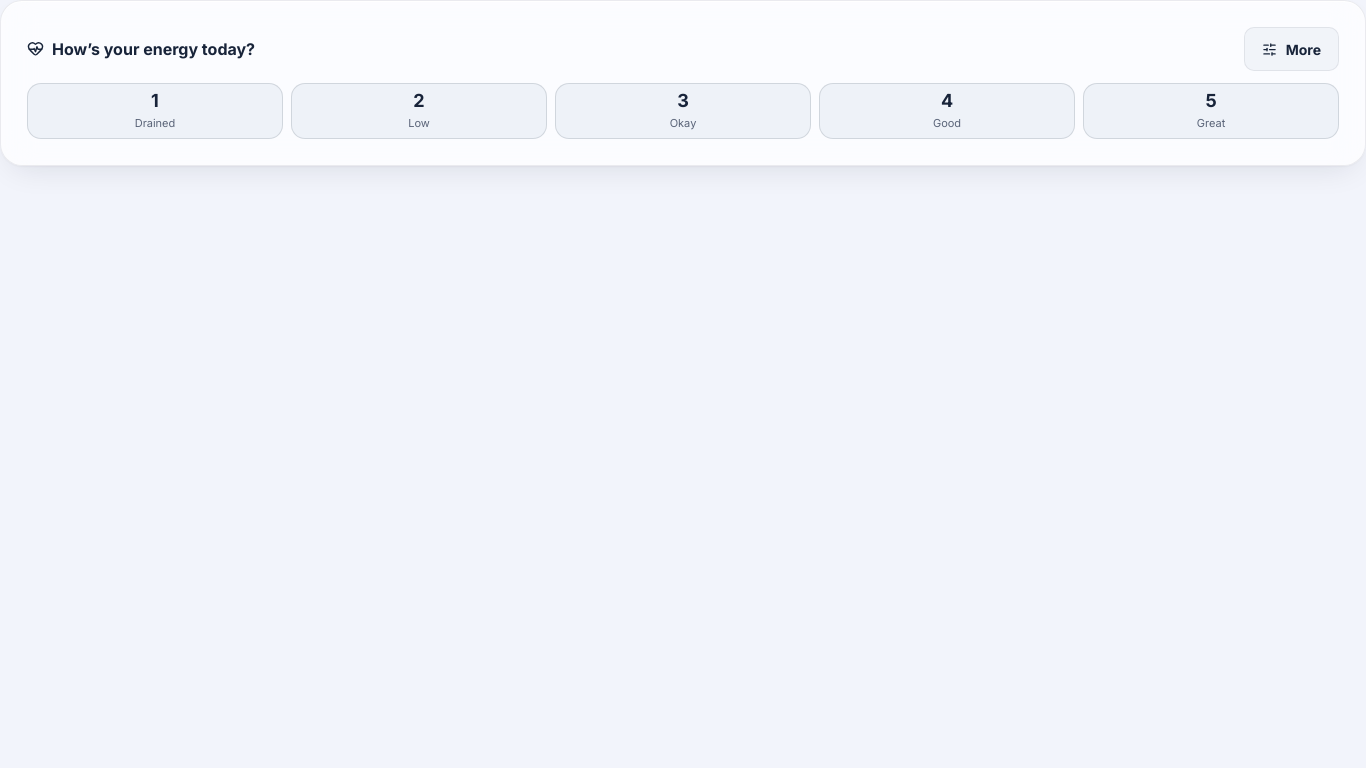
it: one-tap check-in on Today › offers five levels and opens the full check-in from "More"
Expected: the number of buttons "1 Drained" is 5, left=27, top=83, right=283, bottom=139; left=291, top=83, right=547, bottom=139; left=555, top=83, right=811, bottom=139; left=819, top=83, right=1075, bottom=139; left=1083, top=83, right=1339, bottom=139
Step 1. Click the button "More" → (1291, 49), box left=1244, top=27, right=1339, bottom=71
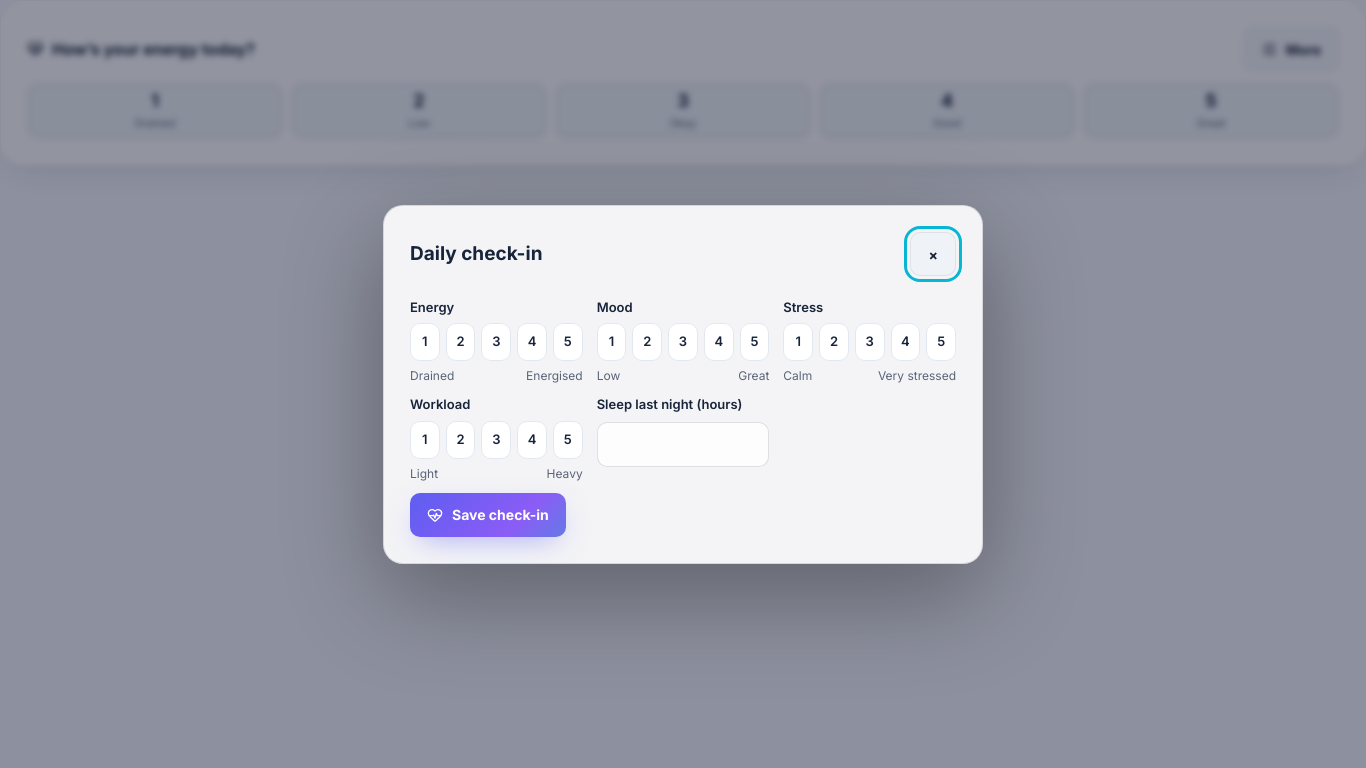
Expected: the form named "Daily check-in" is shown, left=410, top=298, right=956, bottom=536
